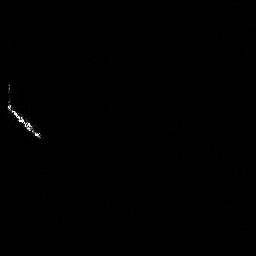ship: (6, 104, 40, 137)
